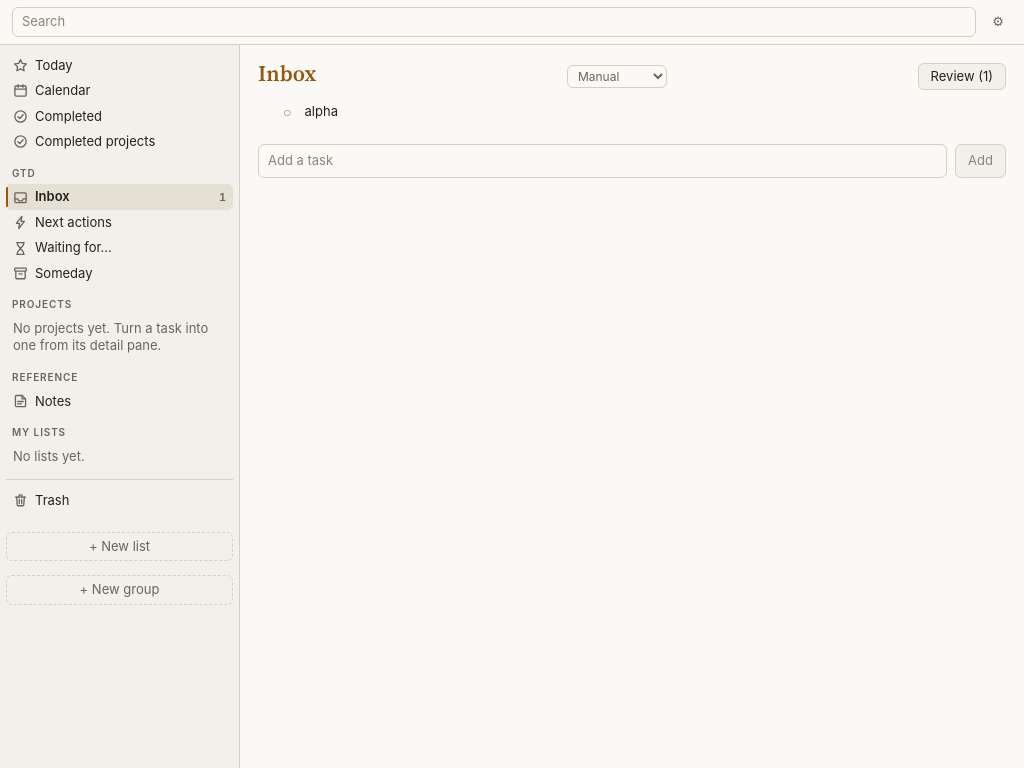
The Review sheet › theRootRailMatchesTheMac
Click the button "Review (1)".
click(962, 76)  # box [918,62,1006,90]
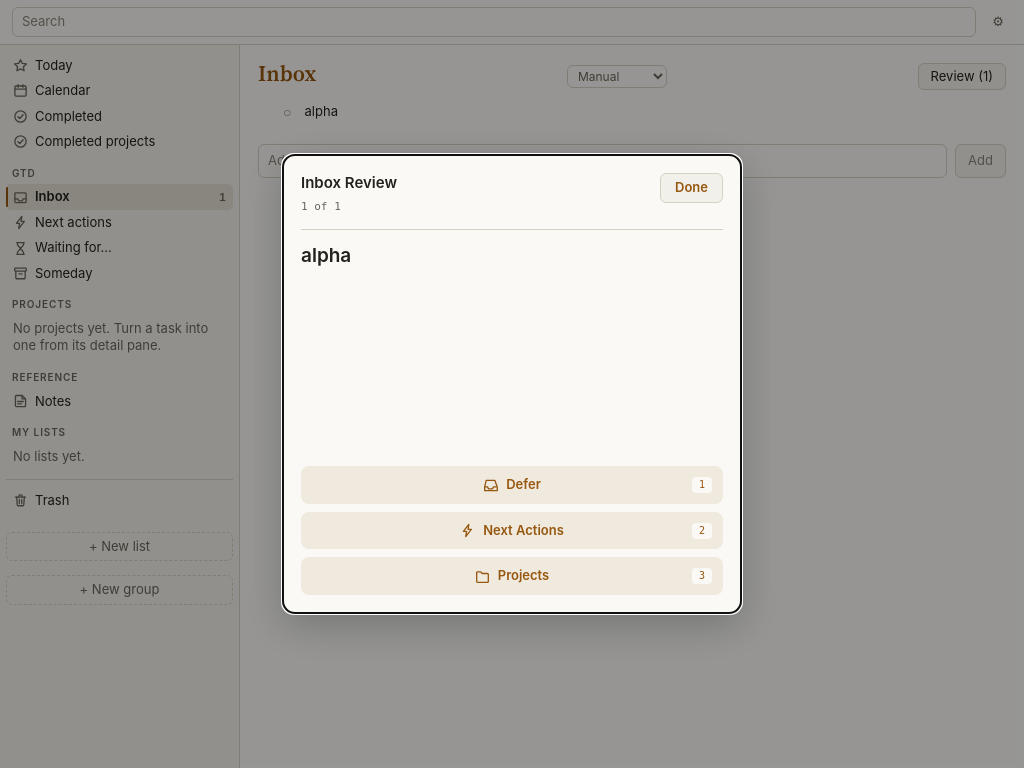
Expected: the button "Defer 1" is shown, [301,466,723,504]
Expected: the button "Next Actions 2" is shown, [301,512,723,549]
Expected: the button "Projects 3" is shown, [301,558,723,595]
